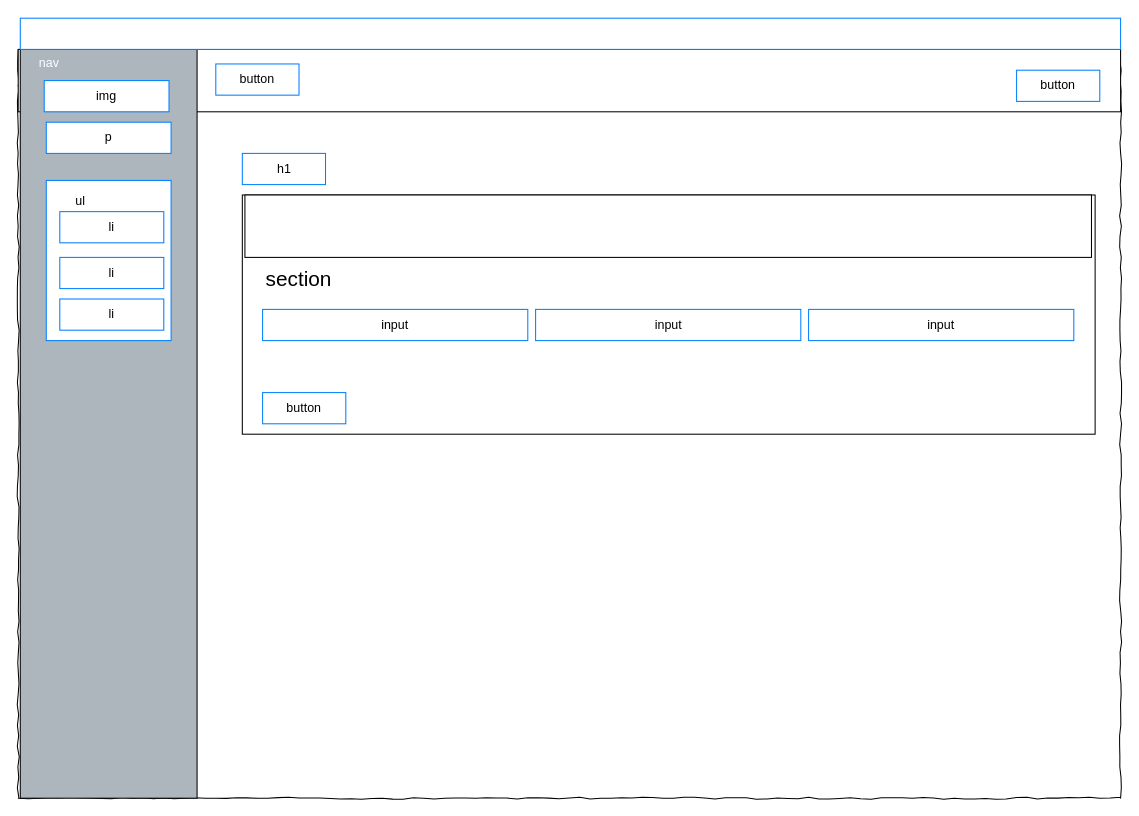
This 1139x816 diagram has some shape labels left out. The shapes that lost their labels are listed below. From the top down, each one's centre as x and y in pixels, then its label:
(x=570, y=33): head
(x=667, y=225): header
